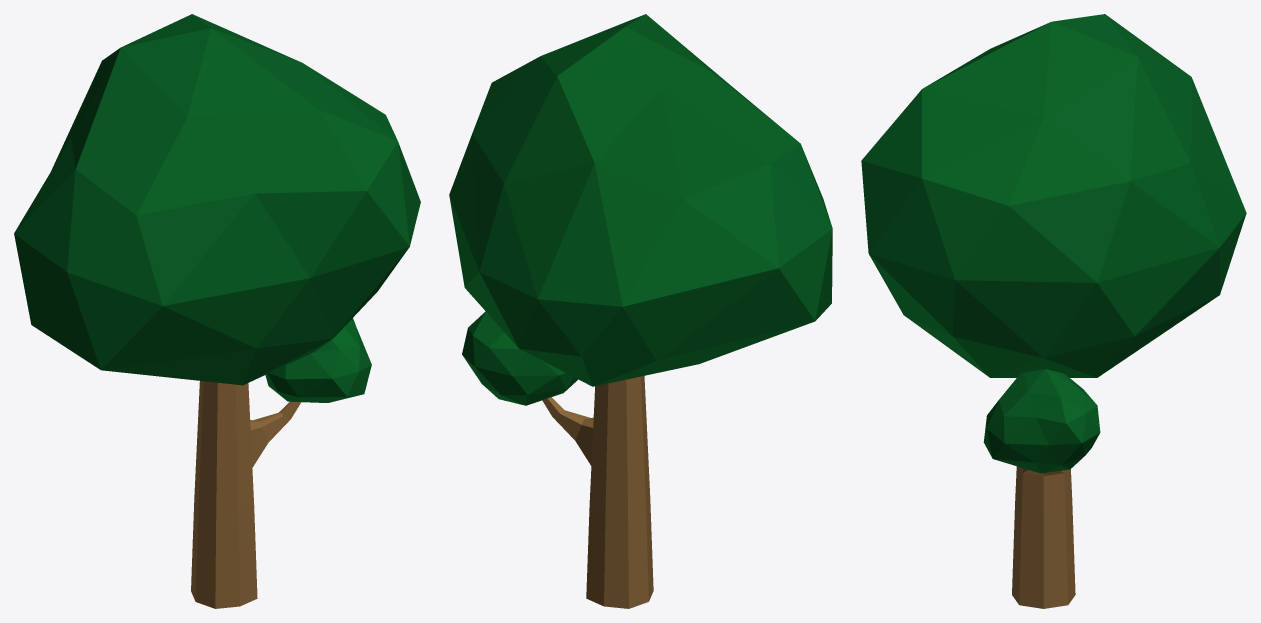
The model's file is low poly three1.fbx.
3 renders of one model, left to right at view 1: azimuth 30°, elevation 25°; view 2: azimuth 150°, elevation 25°; view 3: azimuth 270°, elevation 25°, orthographic.
Parts seen in each view (by area): view 1: Cube; view 2: Cube; view 3: Cube.
Part boxes in pixels (<box>): Cube: <box>14,14,420,608</box>; Cube: <box>449,14,832,608</box>; Cube: <box>861,14,1246,608</box>.
Bounding box in the file's own units: 676 × 1058 × 650.
